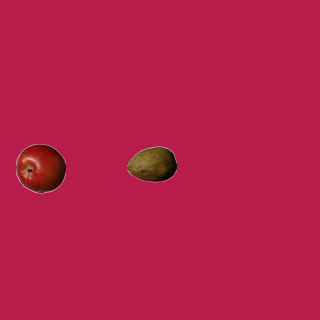Apple Braeburn: (15, 143, 65, 193)
Papaya: (126, 139, 176, 189)
